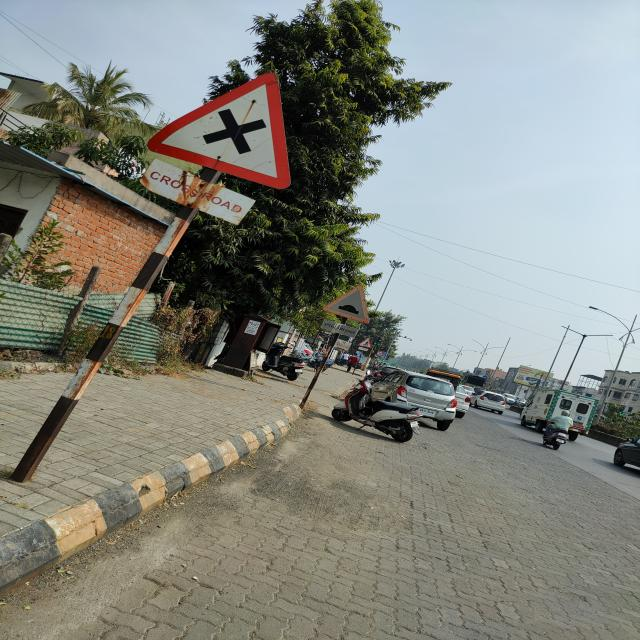cross_road: (145, 70, 292, 191)
